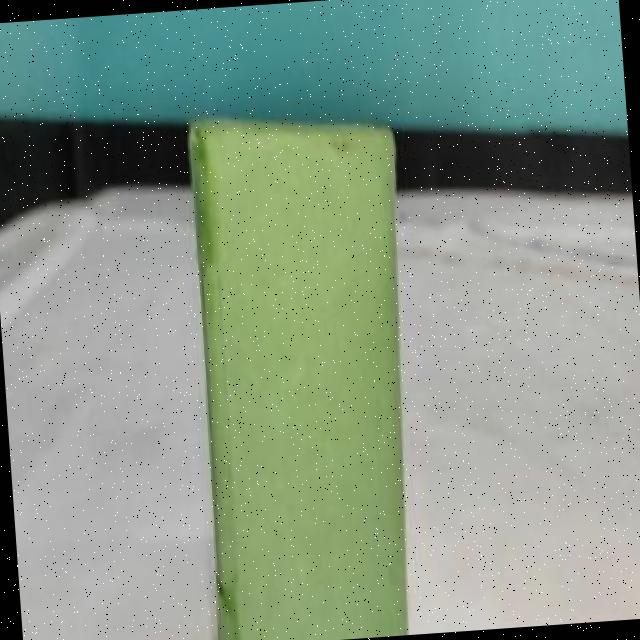greenbox: (175, 98, 428, 640)
